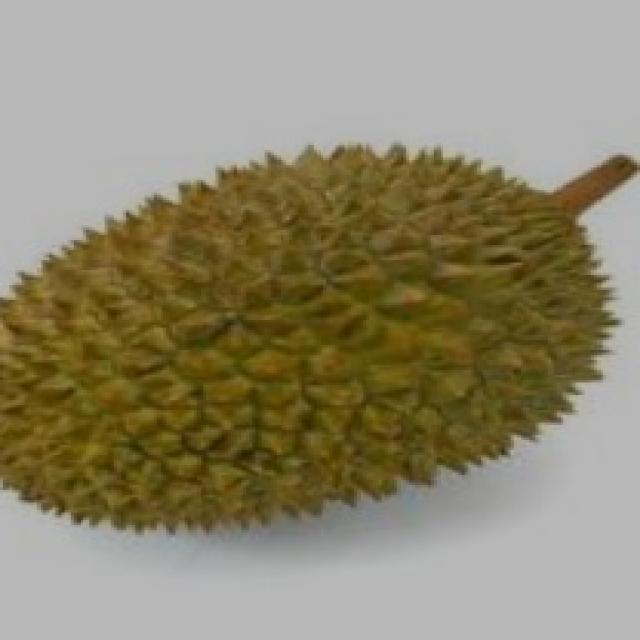fruit: (267, 132, 640, 552), (0, 170, 360, 595)
